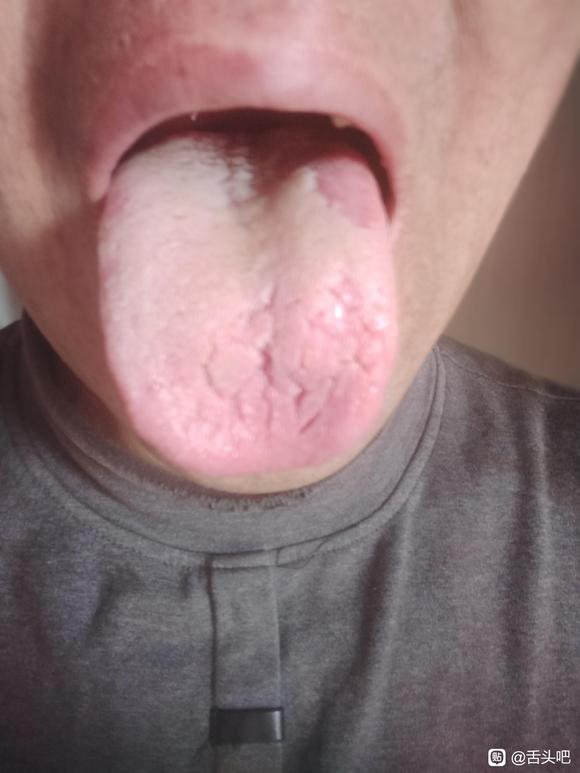baitaishe: (99, 123, 396, 480)
botaishe: (290, 138, 391, 236)
liewenshe: (198, 276, 321, 436)
